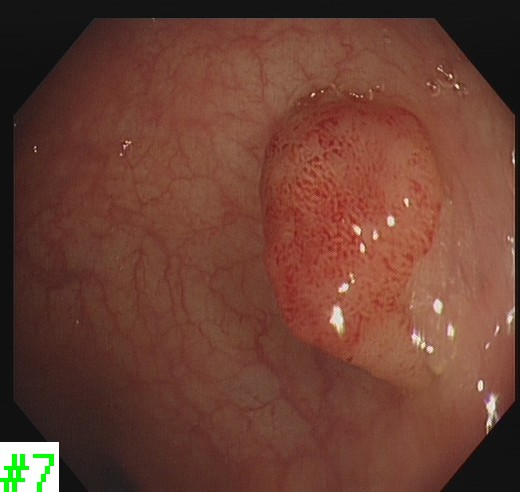adenoma: (257, 95, 443, 391)
